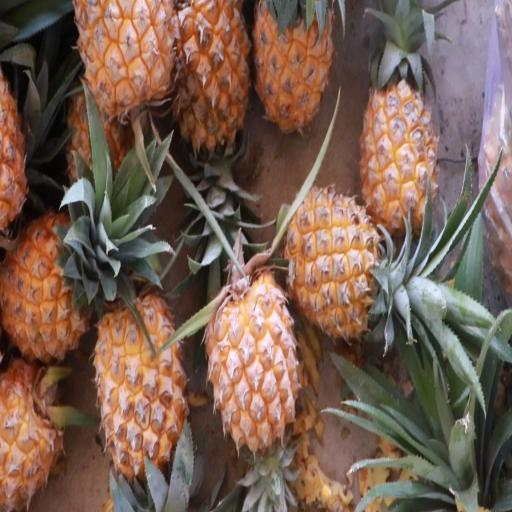Pineapple - v8 v1: (355, 0, 442, 242), (89, 280, 189, 482), (203, 260, 304, 452), (277, 184, 390, 349), (4, 198, 93, 367), (162, 0, 255, 158), (71, 0, 180, 127), (246, 0, 333, 137), (0, 359, 63, 512)
